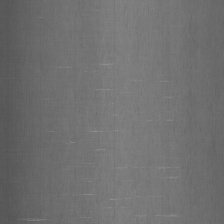waist_folding: (40, 27, 183, 215)
